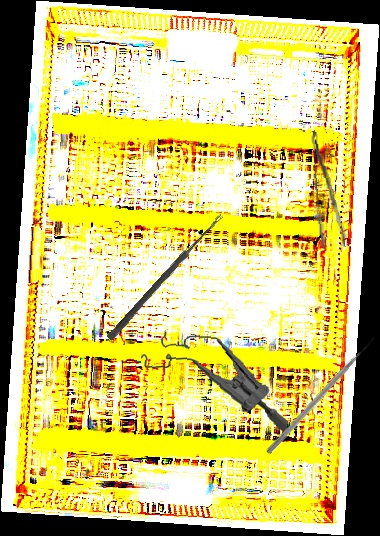Dressing Forceps: (309, 128, 348, 250)
Pusher: (265, 335, 378, 457)
Speculum: (135, 327, 295, 433)
Surgical Spoon: (106, 212, 225, 342)
